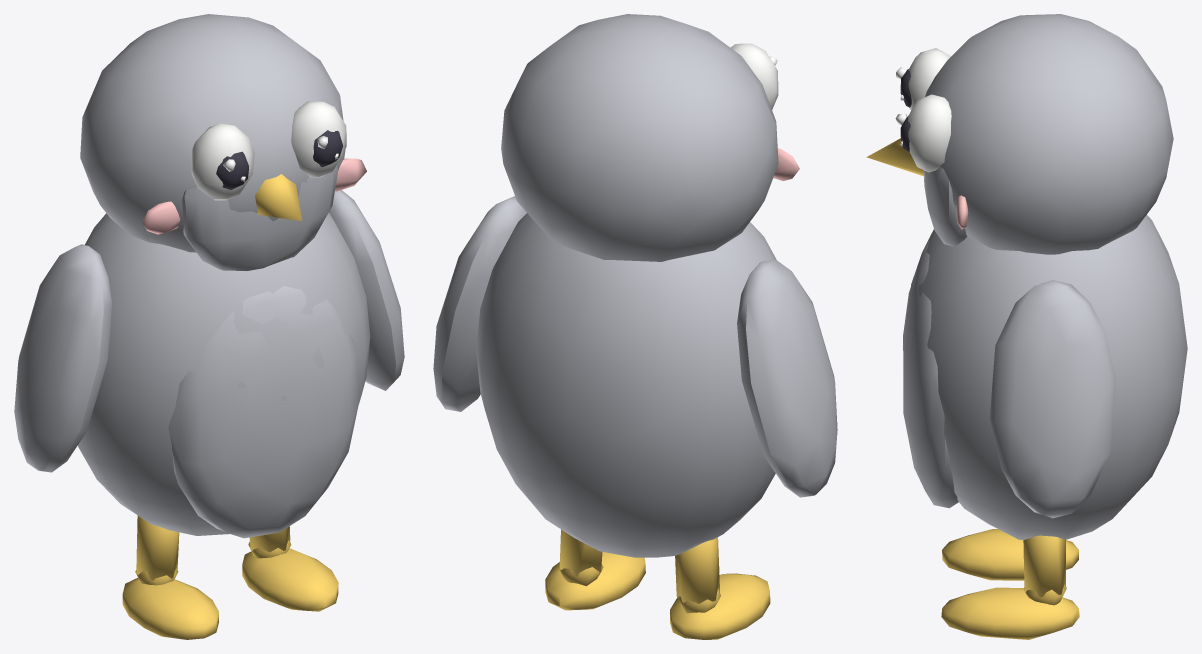
The model's file is Penguin.fbx.
The picture shows the model from 3 angles, left to right: view 1: azimuth 30°, elevation 25°; view 2: azimuth 150°, elevation 25°; view 3: azimuth 270°, elevation 25°; orthographic projection. The views are drawn at different scales.
Visible parts, largest first — view 1: EX_Penguin; view 2: EX_Penguin; view 3: EX_Penguin.
Part boxes in pixels (x1,y1,x2,y2): EX_Penguin: (14,14,404,639); EX_Penguin: (433,14,837,639); EX_Penguin: (866,14,1187,639).
Size of the model in its own units: 148 by 223 by 113.
